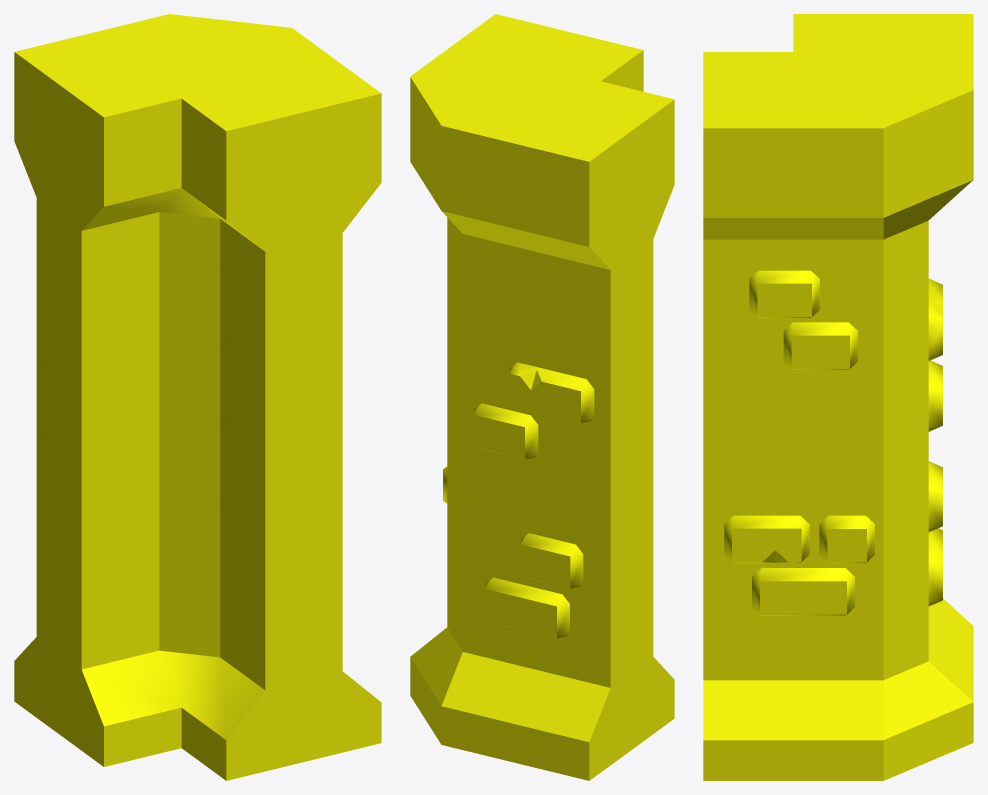
The model's file is kaykit-wall-corner-small.glb.
3 views of the same model, side by side, from view 1: azimuth 30°, elevation 25°; view 2: azimuth 150°, elevation 25°; view 3: azimuth 270°, elevation 25° (orthographic). The views are drawn at different scales.
Parts seen in each view (by area): view 1: wall_corner_small; view 2: wall_corner_small; view 3: wall_corner_small.
Part boxes in pixels (left/top/right/bottom): wall_corner_small: left=14, top=14, right=381, bottom=780; wall_corner_small: left=410, top=14, right=674, bottom=780; wall_corner_small: left=703, top=14, right=973, bottom=780.
Size of the model in its own units: 1.5 by 4 by 1.5.
